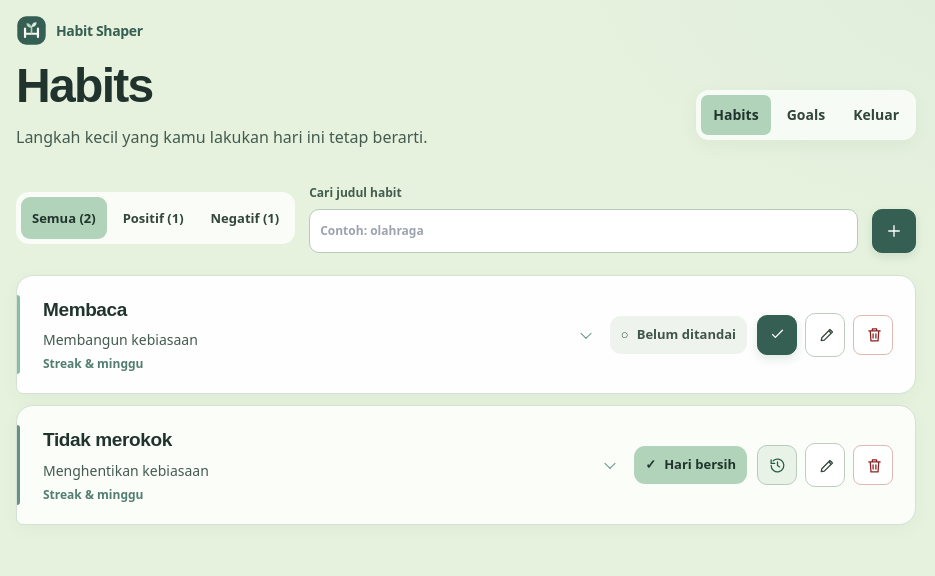
Test: today habit list › UI-03 checks in a positive habit and announces completion
expect the text "Membaca" is shown: met, box [43,299,127,320]
Click the button named "Tandai selesai: Membaca" at (777, 335), box [757,315,797,355]
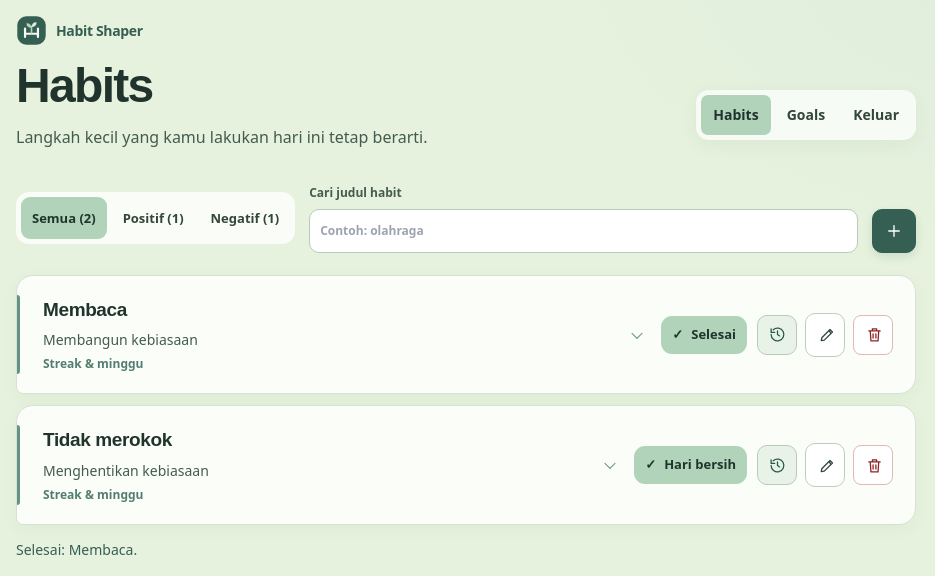
expect the message shows "Selesai: Membaca": met, box [16,540,137,559]
